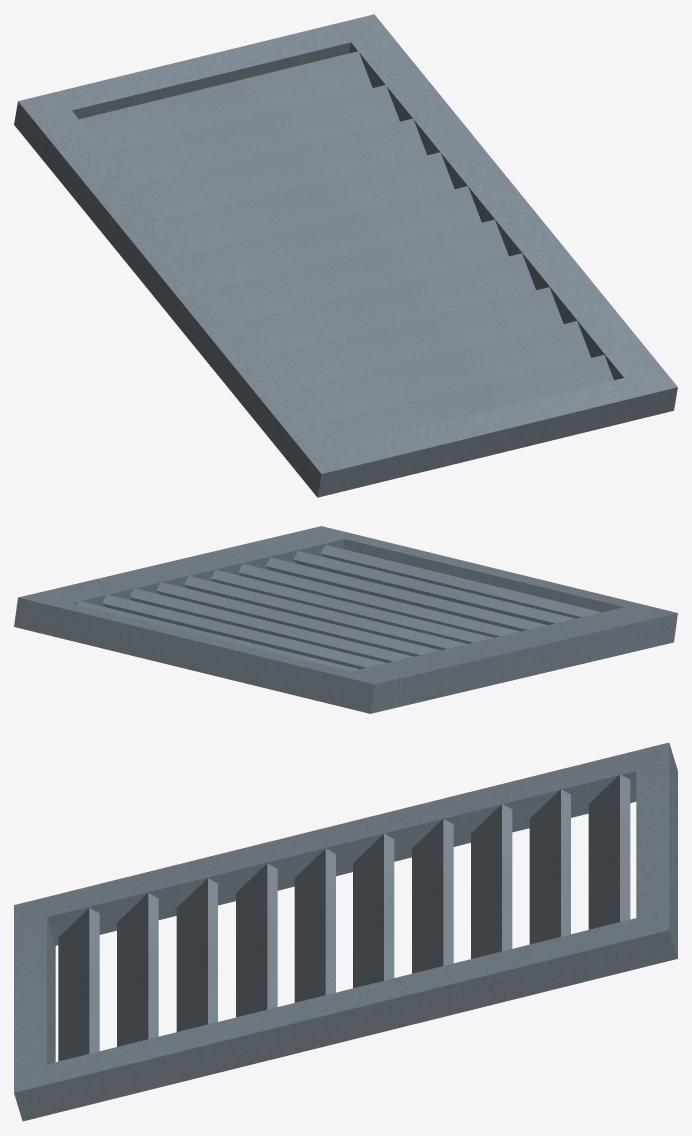
Rendered from hvac_vent.fbx.
3 renders of one model, top to bottom at view 1: azimuth 30°, elevation 25°; view 2: azimuth 150°, elevation 25°; view 3: azimuth 270°, elevation 25°, orthographic. The views are drawn at different scales.
Parts seen in each view (by area): view 1: hvac_vent; view 2: hvac_vent; view 3: hvac_vent.
Part boxes in pixels (x1,y1,x2,y2): hvac_vent: (14, 14, 677, 497); hvac_vent: (14, 526, 677, 713); hvac_vent: (14, 742, 677, 1121).
Size of the model in its own units: 131 by 62.13 by 195.
Materials: 1 (1 with a texture image).
